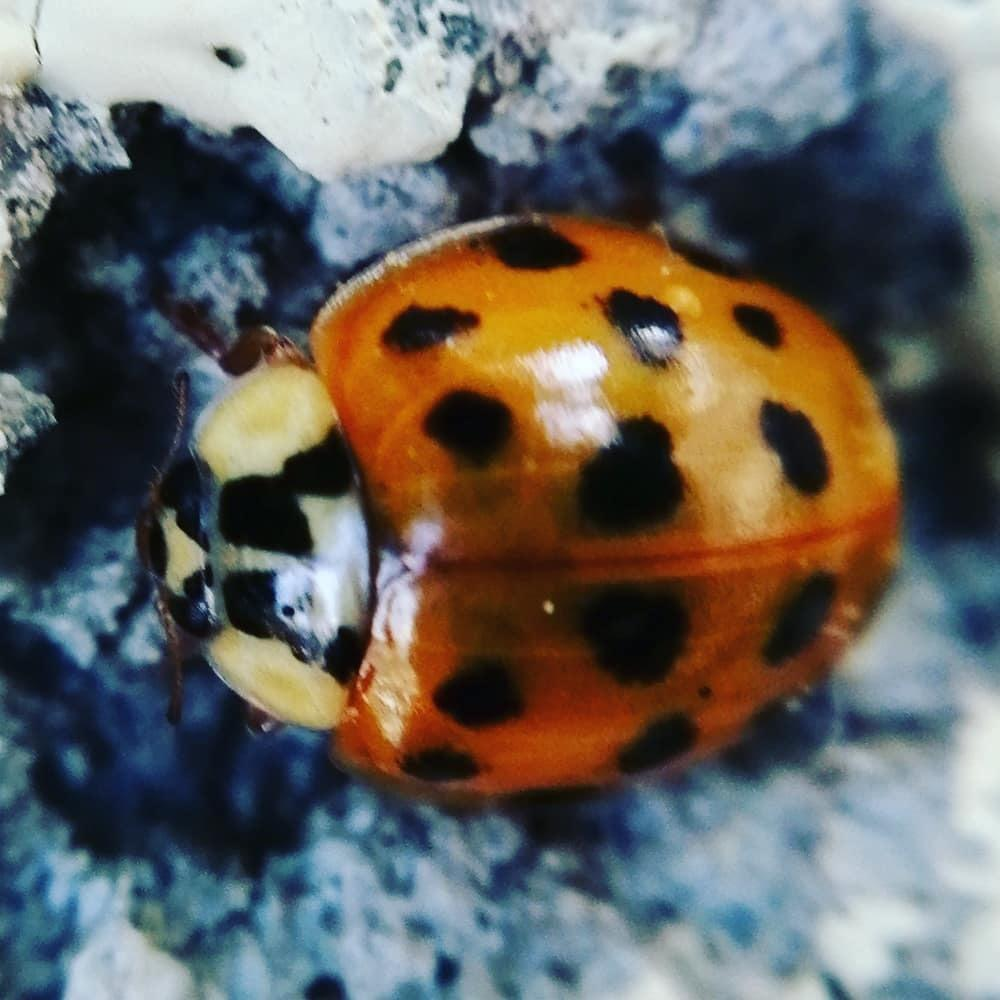ladybug: (136, 206, 906, 801)
